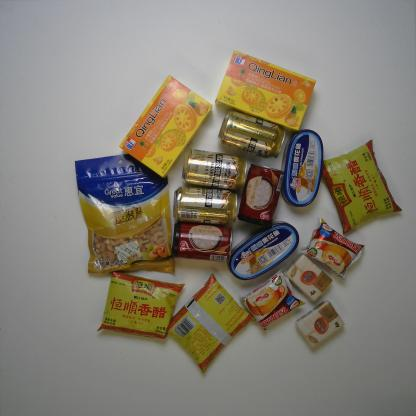Alcohol: (216, 108, 286, 160), (181, 146, 248, 192), (172, 186, 238, 226)
Canned Food: (227, 220, 300, 281), (281, 127, 324, 208), (236, 162, 285, 228), (171, 222, 234, 263)
Dessert: (118, 74, 214, 179), (214, 50, 318, 132), (238, 268, 306, 331), (304, 216, 366, 282)
Dried Fruit: (74, 153, 175, 276)
Seasoner: (166, 272, 257, 374), (322, 138, 404, 236), (96, 270, 186, 340)
Tissue: (283, 252, 334, 302), (295, 299, 345, 349)
